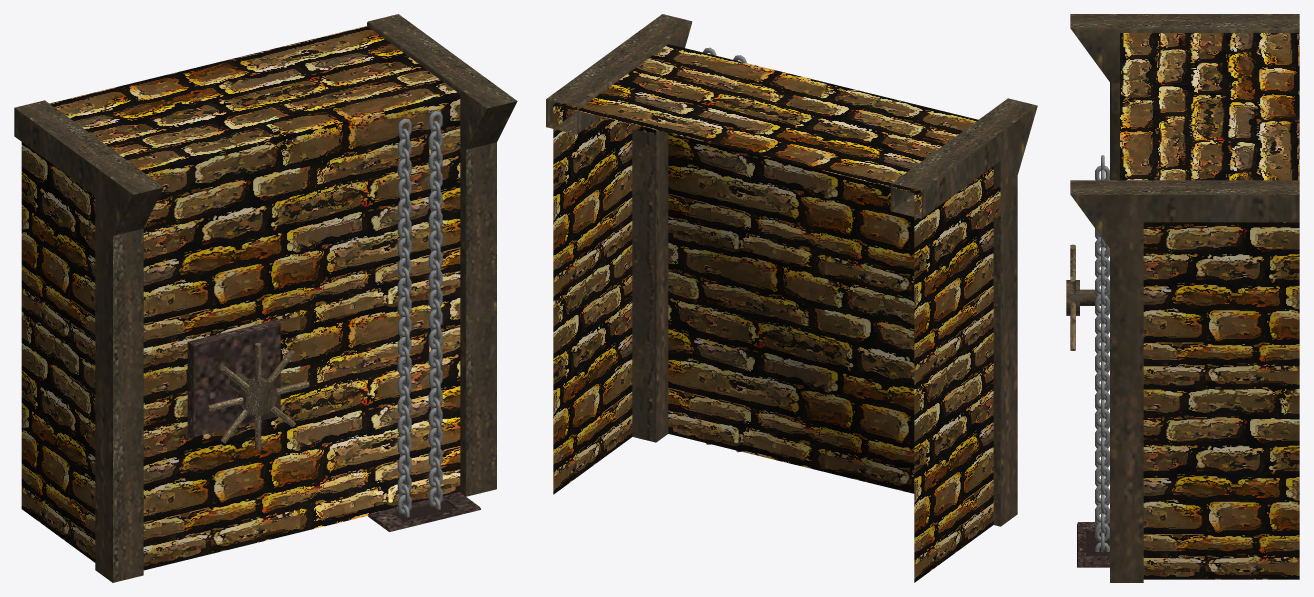
The model's file is stoneDoorDevice.fbx.
3 views of the same model, side by side, from view 1: azimuth 30°, elevation 25°; view 2: azimuth 150°, elevation 25°; view 3: azimuth 270°, elevation 25° (orthographic). The views are drawn at different scales.
Parts seen in each view (by area): view 1: stoneDoorDevice; view 2: stoneDoorDevice; view 3: stoneDoorDevice.
Part boxes in pixels (<box>): stoneDoorDevice: <box>14,14,517,582</box>; stoneDoorDevice: <box>546,14,1037,582</box>; stoneDoorDevice: <box>1066,14,1299,582</box>.
Bounding box in the file's own units: 300 × 308 × 164.
